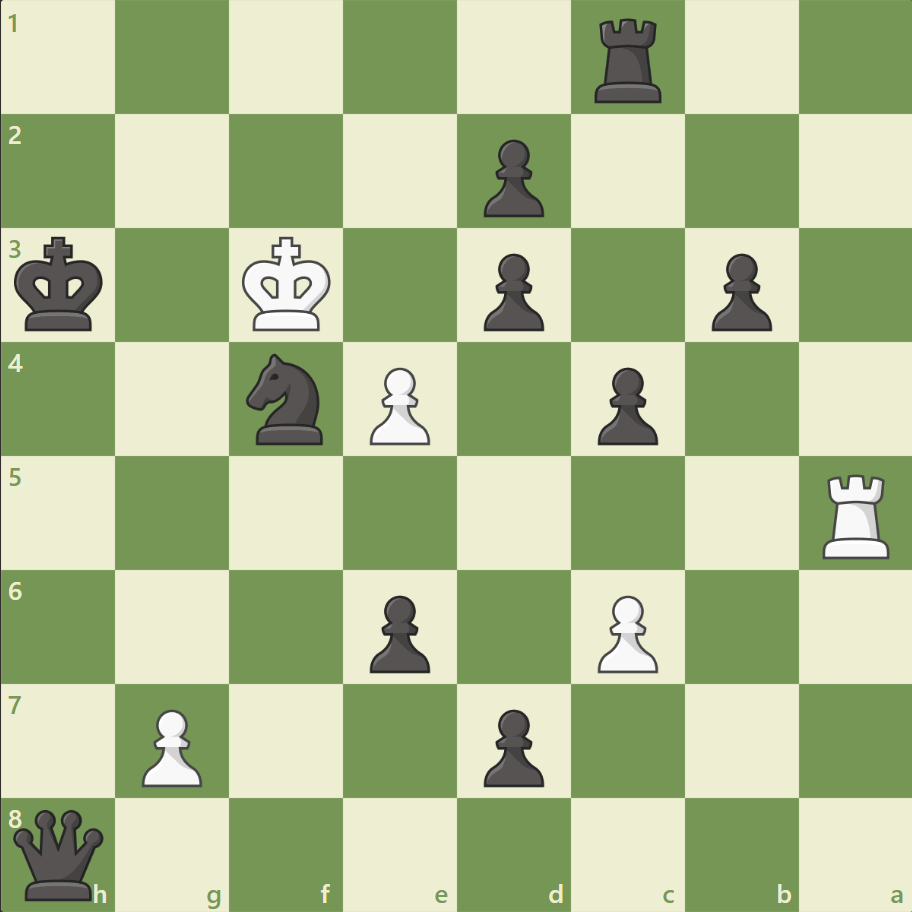K: (238, 231, 338, 339)
P: (133, 700, 208, 791), (588, 586, 662, 677), (361, 359, 435, 450)
R: (814, 466, 897, 563)
k: (11, 231, 111, 339)
n: (238, 348, 335, 450)
p: (474, 700, 549, 791), (701, 246, 776, 337), (474, 246, 549, 337), (474, 132, 549, 223), (361, 586, 435, 677), (588, 359, 662, 450)
q: (10, 804, 109, 903)
r: (587, 12, 670, 109)
